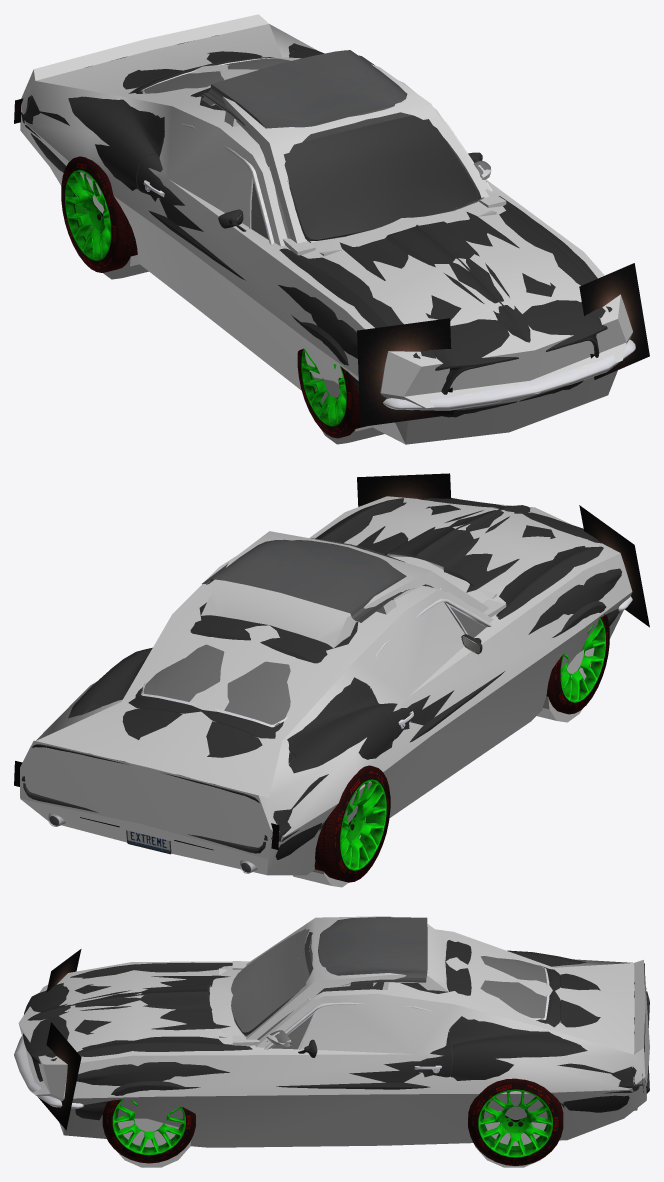
Rendered from P_car-023_Proton.fbx.
The picture shows the model from 3 angles, top to bottom: view 1: azimuth 30°, elevation 25°; view 2: azimuth 150°, elevation 25°; view 3: azimuth 270°, elevation 25°; orthographic projection. The views are drawn at different scales.
Visible parts, largest first — view 1: M_Car-023_ShadowForm_Proton_01, M_Car-023_Body_Proton_01, M_Car-Interior_Glass_01, M_Car-Interior_Details_01, M_Car-023_FrontFlares_Proton_01, M_Car-Interior_Shadowform_01, M_Car-023_Details_Proton_01, M_CarWheel_003_AP_01 (×2), M_CaTire_003_AP_01 (×2), M_Car-023_Glass_Proton_01, M_CaTire_003_AP_02 (×2); view 2: M_Car-023_ShadowForm_Proton_01, M_Car-023_Body_Proton_01, M_Car-Interior_Details_01, M_Car-Interior_Shadowform_01, M_Car-023_Glass_Proton_01, M_CarWheel_003_AP_01 (×2), M_Car-023_FrontFlares_Proton_01, M_CaTire_003_AP_02 (×2), M_Car-023_Details_Proton_01, M_CaTire_003_AP_01 (×2), M_Car-023_LicensePlate_Proton_01; view 3: M_Car-023_ShadowForm_Proton_01, M_Car-023_Body_Proton_01, M_Car-Interior_Details_01, M_Car-Interior_Glass_01, M_Car-Interior_Shadowform_01, M_CarWheel_003_AP_01 (×2), M_Car-023_Glass_Proton_01, M_CaTire_003_AP_01 (×2), M_Car-023_FrontFlares_Proton_01, M_Car-023_Details_Proton_01, M_CaTire_003_AP_02 (×2).
Part boxes in pixels (x1,y1,x2,y2): M_Car-023_ShadowForm_Proton_01: (20,14,632,444); M_Car-023_Body_Proton_01: (20,35,612,417); M_Car-Interior_Glass_01: (283,115,477,239); M_Car-Interior_Details_01: (202,50,490,242); M_Car-023_FrontFlares_Proton_01: (357,263,649,426); M_Car-Interior_Shadowform_01: (201,64,506,256); M_Car-023_Details_Proton_01: (23,46,635,410); M_CarWheel_003_AP_01 (×2): (61,156,365,438); M_CaTire_003_AP_01 (×2): (65,169,333,425); M_Car-023_Glass_Proton_01: (141,58,290,239); M_CaTire_003_AP_02 (×2): (91,178,346,426); M_Car-023_ShadowForm_Proton_01: (20,496,632,887); M_Car-023_Body_Proton_01: (21,498,621,859); M_Car-Interior_Details_01: (202,538,432,622); M_Car-Interior_Shadowform_01: (201,531,506,648); M_Car-023_Glass_Proton_01: (49,607,485,872); M_CarWheel_003_AP_01 (×2): (314,615,609,882); M_Car-023_FrontFlares_Proton_01: (357,473,649,627); M_CaTire_003_AP_02 (×2): (348,618,605,862); M_Car-023_Details_Proton_01: (46,498,632,873); M_CaTire_003_AP_01 (×2): (340,653,587,870); M_Car-023_LicensePlate_Proton_01: (126,830,171,854); M_Car-023_ShadowForm_Proton_01: (18,929,649,1167); M_Car-023_Body_Proton_01: (23,940,649,1120); M_Car-Interior_Details_01: (231,917,427,1045); M_Car-Interior_Glass_01: (231,929,384,1032); M_Car-Interior_Shadowform_01: (219,916,448,1046); M_CarWheel_003_AP_01 (×2): (102,1078,563,1165); M_Car-023_Glass_Proton_01: (257,956,546,1049); M_CaTire_003_AP_01 (×2): (112,1089,524,1157); M_Car-023_FrontFlares_Proton_01: (38,949,81,1130); M_Car-023_Details_Proton_01: (14,953,644,1114); M_CaTire_003_AP_02 (×2): (151,1090,552,1156).
Size of the model in its own units: 1.98 by 1.46 by 4.69.
